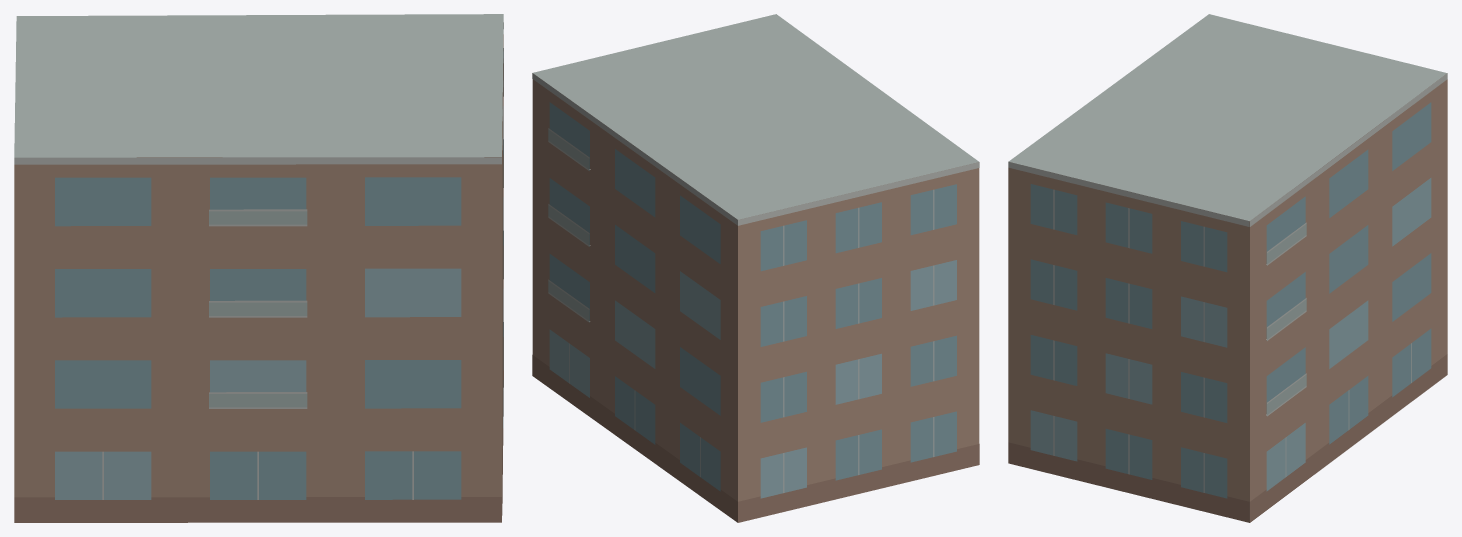
Rendered from survey-upis-32709493.glb.
3 renders of one model, left to right at view 1: azimuth 30°, elevation 25°; view 2: azimuth 150°, elevation 25°; view 3: azimuth 270°, elevation 25°, orthographic. The views are drawn at different scales.
Parts seen in each view (by area): view 1: survey-upis-32709493.tmp; view 2: survey-upis-32709493.tmp; view 3: survey-upis-32709493.tmp.
Boxes of the visible parts, <box> form: survey-upis-32709493.tmp: <box>14,14,503,522</box>; survey-upis-32709493.tmp: <box>532,14,979,522</box>; survey-upis-32709493.tmp: <box>1008,14,1447,522</box>.
Bounding box in the file's own units: 18.28 × 12.4 × 16.37.
